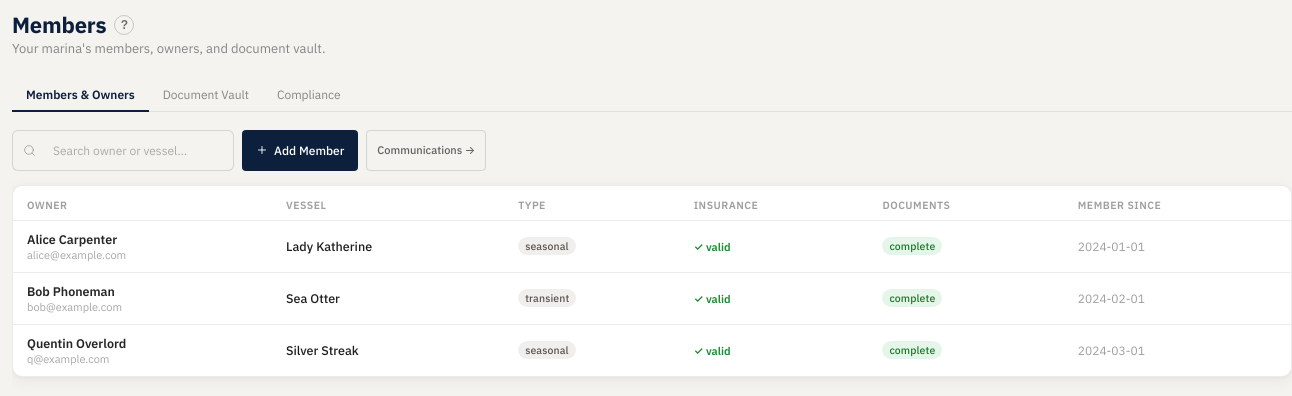
Members search input › matches by email substring
Type "bob@example" into the field named "Search members".
click(133, 150); type("bob@example")  # box [43, 137, 223, 164]
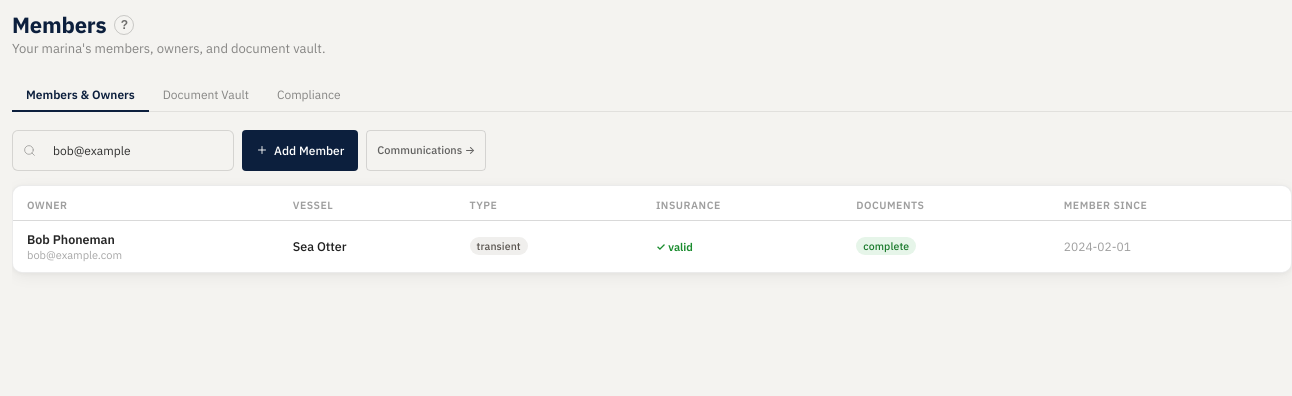
Expected: the text "Bob Phoneman" is shown, [27, 231, 115, 247]
Expected: the text "Alice Carpenter" is gone
